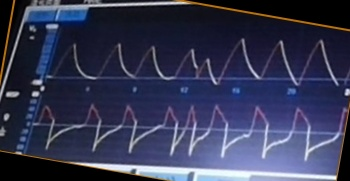Double_Triggering Flow: (72, 98, 338, 161)
Double_Triggering Volume: (73, 35, 337, 86)
